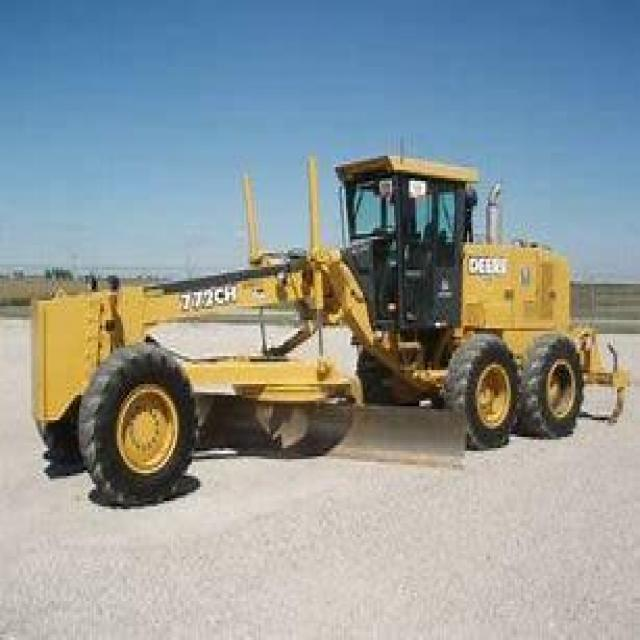Grader: (25, 130, 628, 503)
